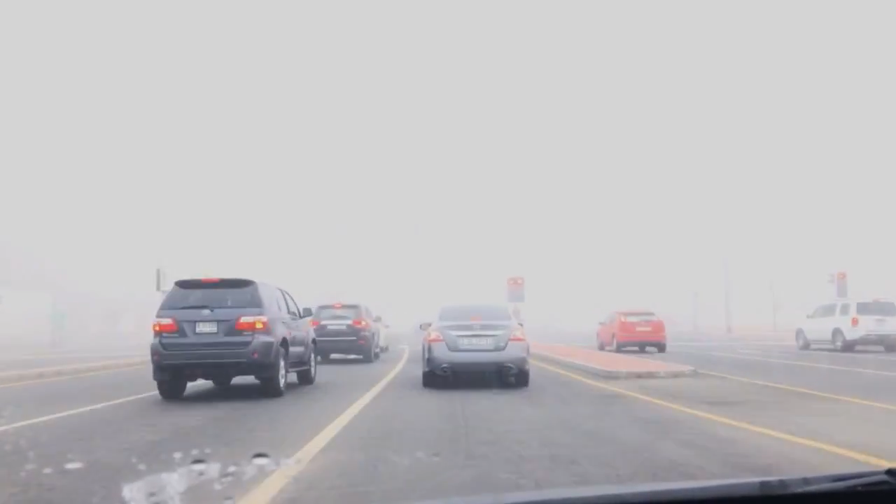car: (149, 276, 319, 398), (418, 304, 532, 390), (794, 299, 896, 353), (304, 303, 382, 363), (595, 308, 670, 356), (334, 308, 392, 360)
